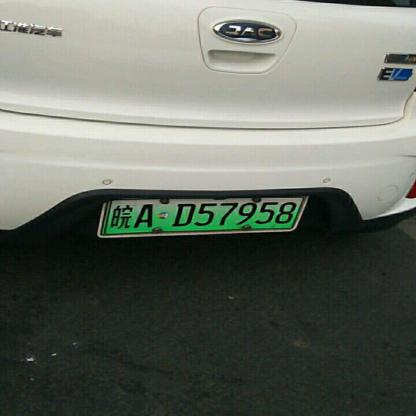lp: (108, 197, 305, 235)
